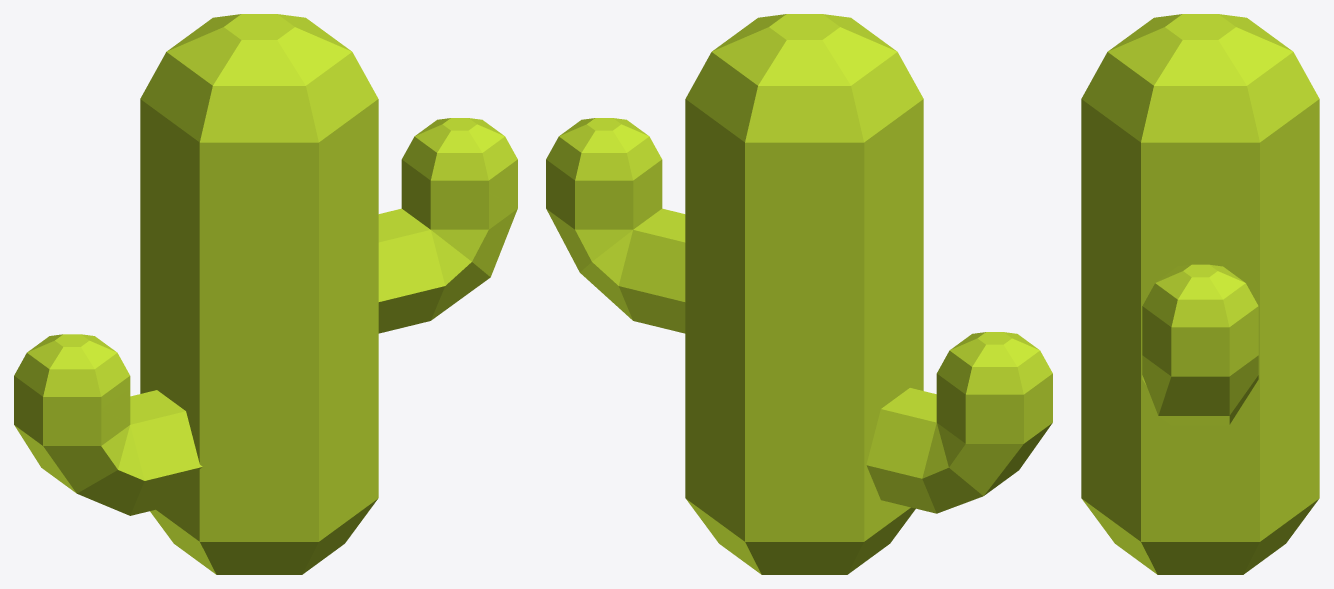
The model's file is Desert_Cactus1.fbx.
The picture shows the model from 3 angles, left to right: view 1: azimuth 30°, elevation 25°; view 2: azimuth 150°, elevation 25°; view 3: azimuth 270°, elevation 25°; orthographic projection.
Parts seen in each view (by area): view 1: Cylinder.012; view 2: Cylinder.012; view 3: Cylinder.012.
Part boxes in pixels (x1,y1,x2,y2): Cylinder.012: [14, 14, 517, 574]; Cylinder.012: [546, 14, 1052, 574]; Cylinder.012: [1081, 14, 1319, 574].
Bounding box in the file's own units: 263 × 272 × 114.
